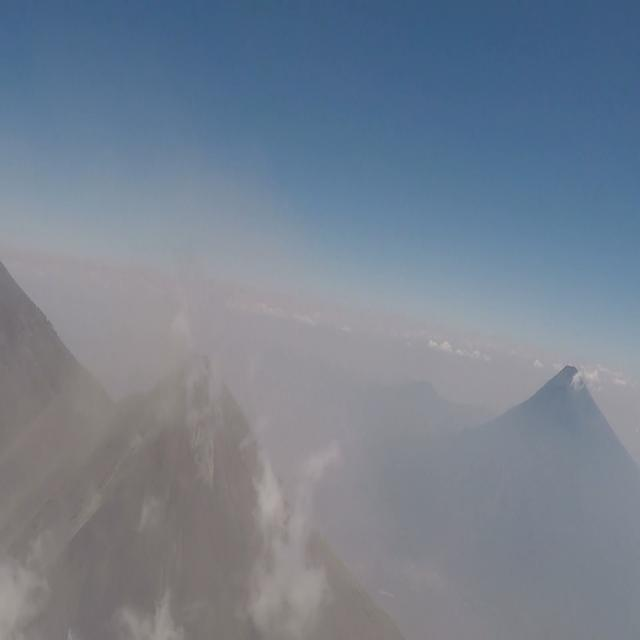Summit: (116, 342, 280, 506)
